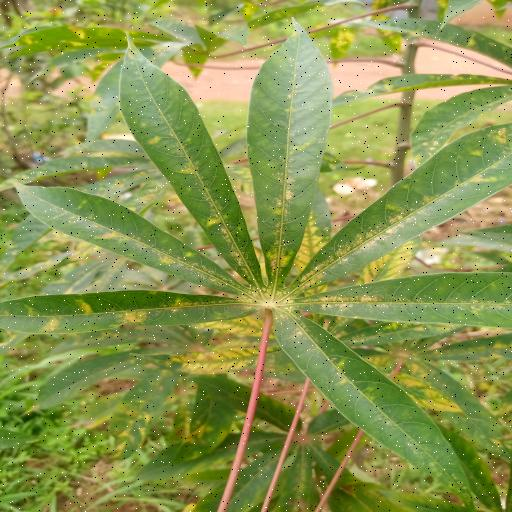Cassava_Mosaic: (2, 24, 512, 503)
